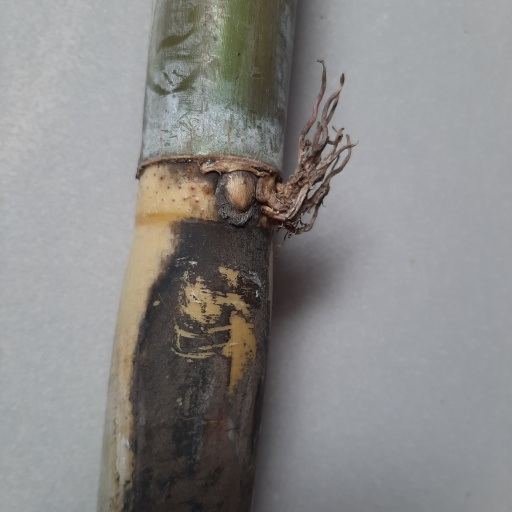Bud: (224, 170, 256, 213)
